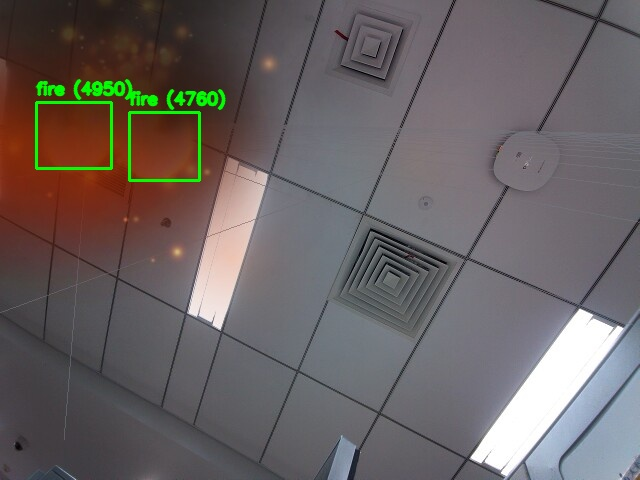fire: (36, 102, 111, 168), (129, 112, 199, 180)
